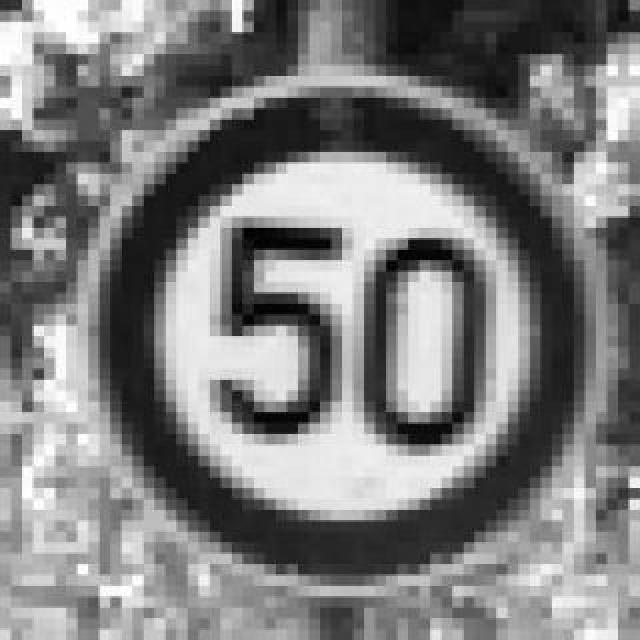50 kph: (76, 42, 596, 586)
